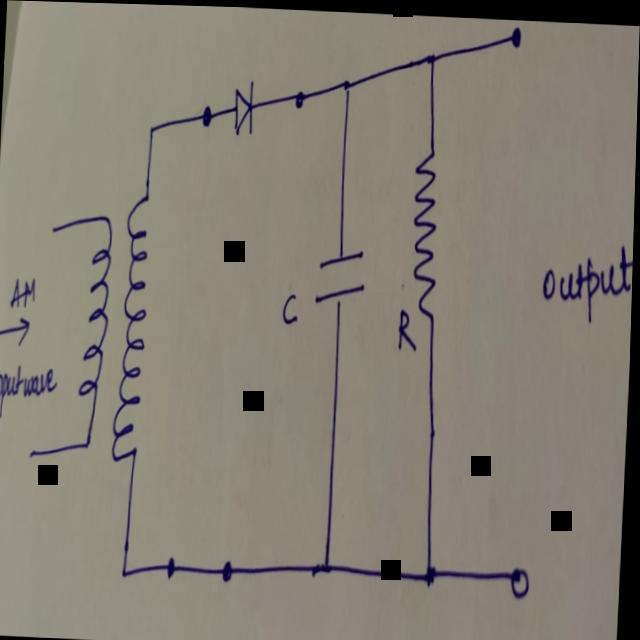capacitor: (314, 243, 366, 304)
diode: (230, 74, 255, 131)
junction: (196, 97, 214, 131), (423, 43, 439, 72), (290, 82, 307, 109), (424, 554, 440, 581), (223, 553, 235, 584), (322, 548, 336, 574), (339, 69, 353, 94), (121, 557, 133, 583), (168, 550, 178, 577), (147, 117, 156, 138)
resistor: (407, 140, 443, 320)
terminal: (509, 562, 532, 593), (503, 22, 520, 47), (28, 441, 37, 462), (49, 220, 58, 238)
text: (0, 267, 65, 422), (540, 230, 635, 321), (398, 303, 420, 347), (282, 288, 300, 321)
transformer: (76, 184, 154, 460)
